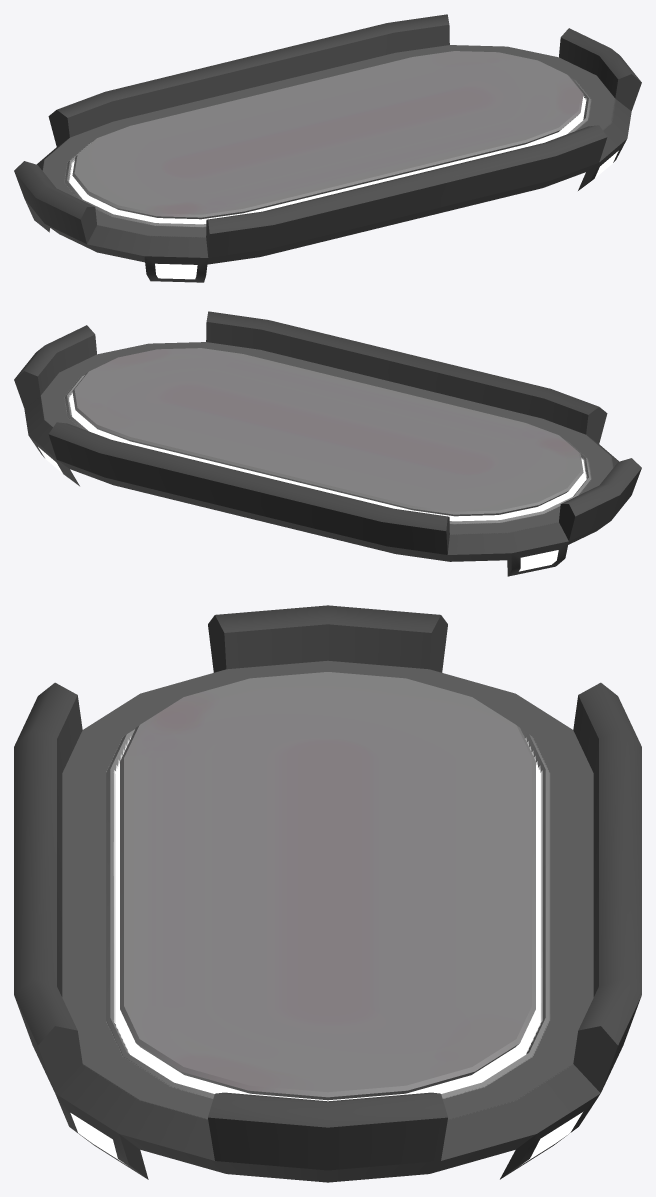
Rendered from PlatformRetangular.fbx.
3 views of the same model, one above another, from view 1: azimuth 30°, elevation 25°; view 2: azimuth 150°, elevation 25°; view 3: azimuth 270°, elevation 25° (orthographic). The views are drawn at different scales.
Visible parts, largest first — view 1: PlatformRetangular; view 2: PlatformRetangular; view 3: PlatformRetangular.
Boxes of the visible parts, bbox=[...] form: PlatformRetangular: bbox=[14, 14, 641, 282]; PlatformRetangular: bbox=[14, 311, 641, 576]; PlatformRetangular: bbox=[14, 605, 641, 1182].
Bounding box in the file's own units: 464 × 76.01 × 240.
